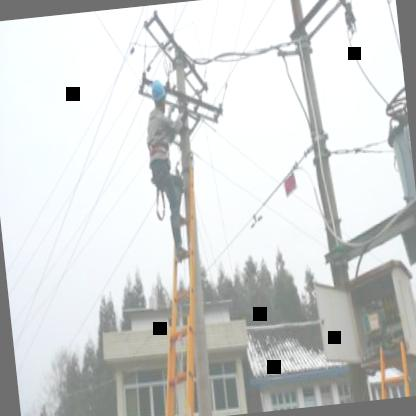helmet: (146, 72, 169, 116)
